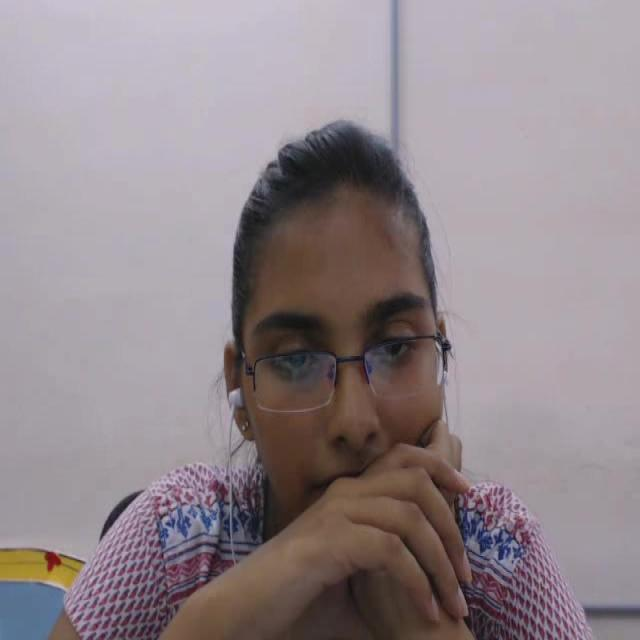Bored: (201, 101, 476, 575)
